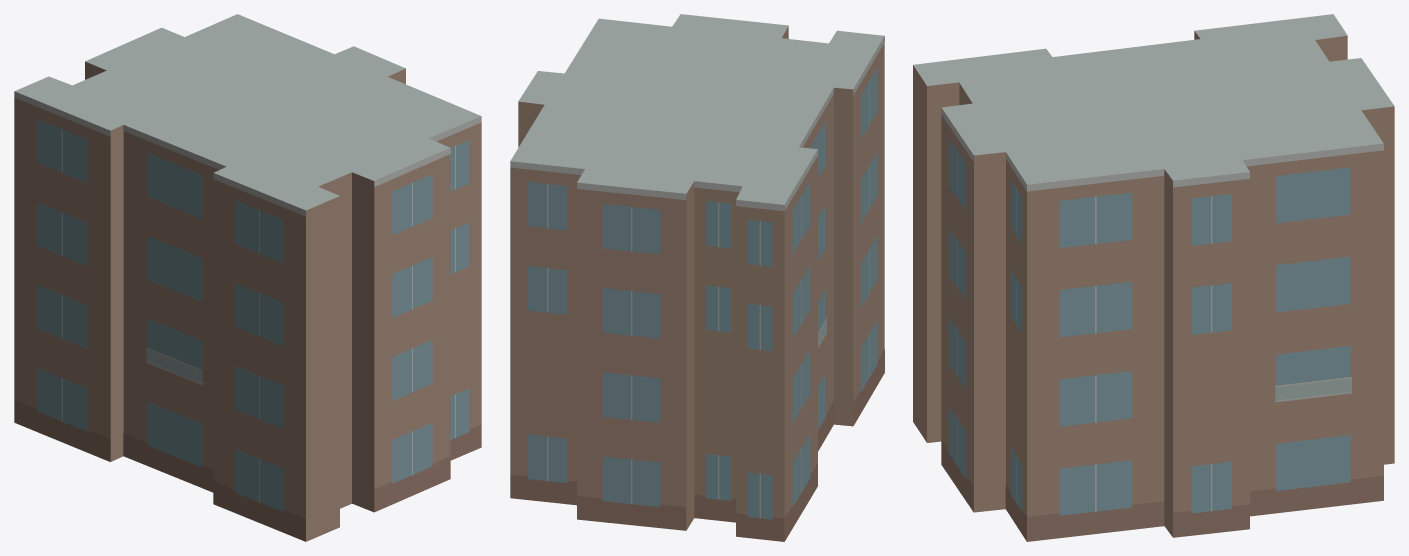
The model's file is survey-upis-32751378.glb.
3 views of the same model, side by side, from view 1: azimuth 30°, elevation 25°; view 2: azimuth 150°, elevation 25°; view 3: azimuth 270°, elevation 25° (orthographic). The views are drawn at different scales.
Visible parts, largest first — view 1: survey-upis-32751378.tmp; view 2: survey-upis-32751378.tmp; view 3: survey-upis-32751378.tmp.
Part boxes in pixels (x1,y1,x2,y2): survey-upis-32751378.tmp: [14, 14, 481, 541]; survey-upis-32751378.tmp: [510, 14, 884, 541]; survey-upis-32751378.tmp: [913, 14, 1394, 541].
Size of the model in its own units: 13.35 by 13 by 15.91.
